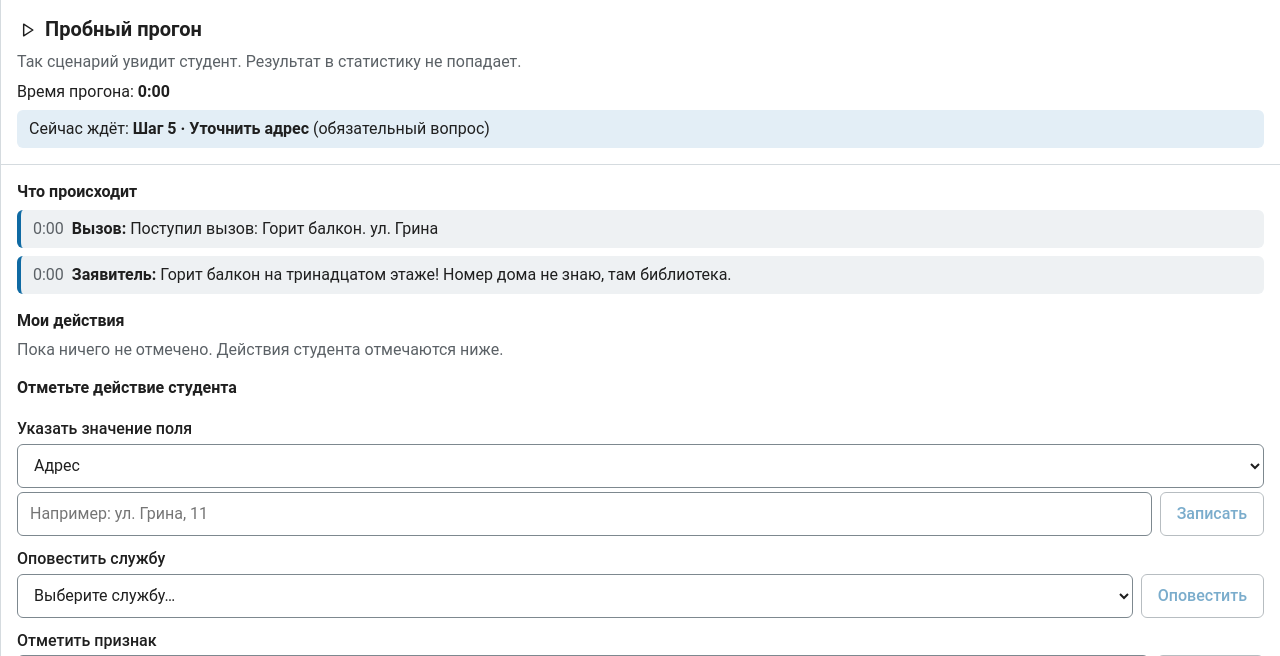
FlowPreviewPanel › записанный ответ не пропадает: у поля «✓ Записано», в «Моих действиях» — строка
Expected: the element "Мои действия" shows "Пока ничего не отмечено", [17, 340, 503, 359]
Select "Уточнение адреса" in the dropdown labelled "Указать значение поля": (640, 466) [17, 444, 1264, 488]
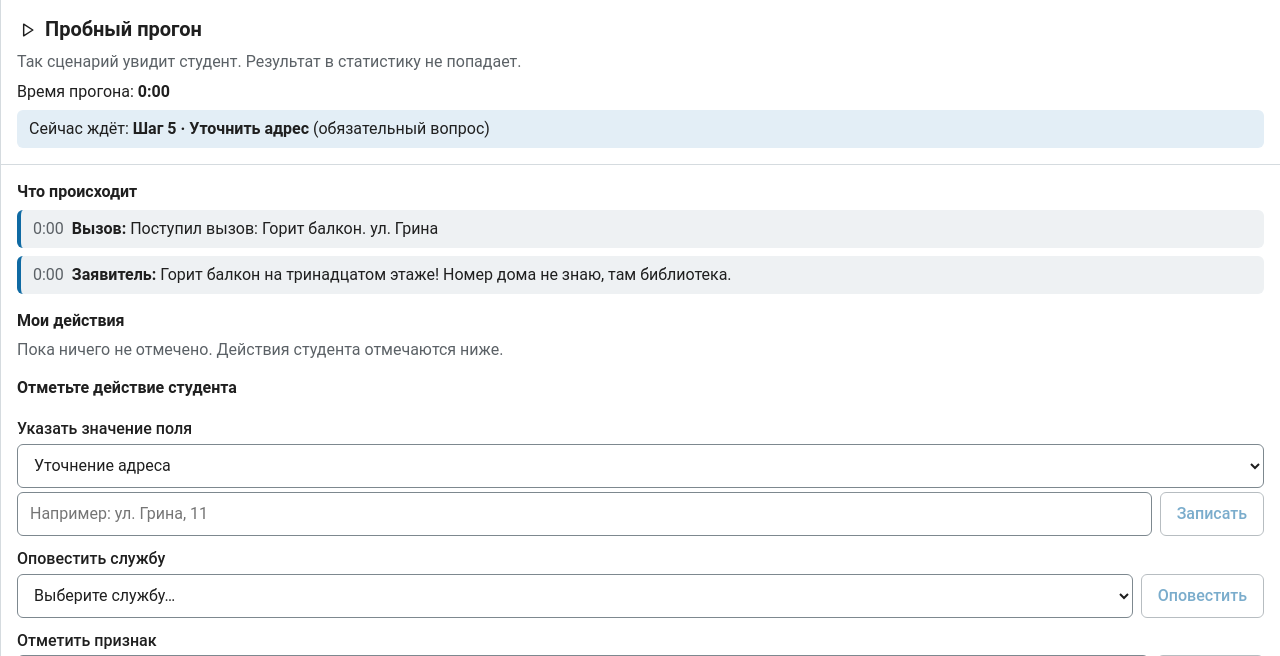
In the field named "Значение": (584, 514) [17, 492, 1152, 536], type "ул. Грина, 11"
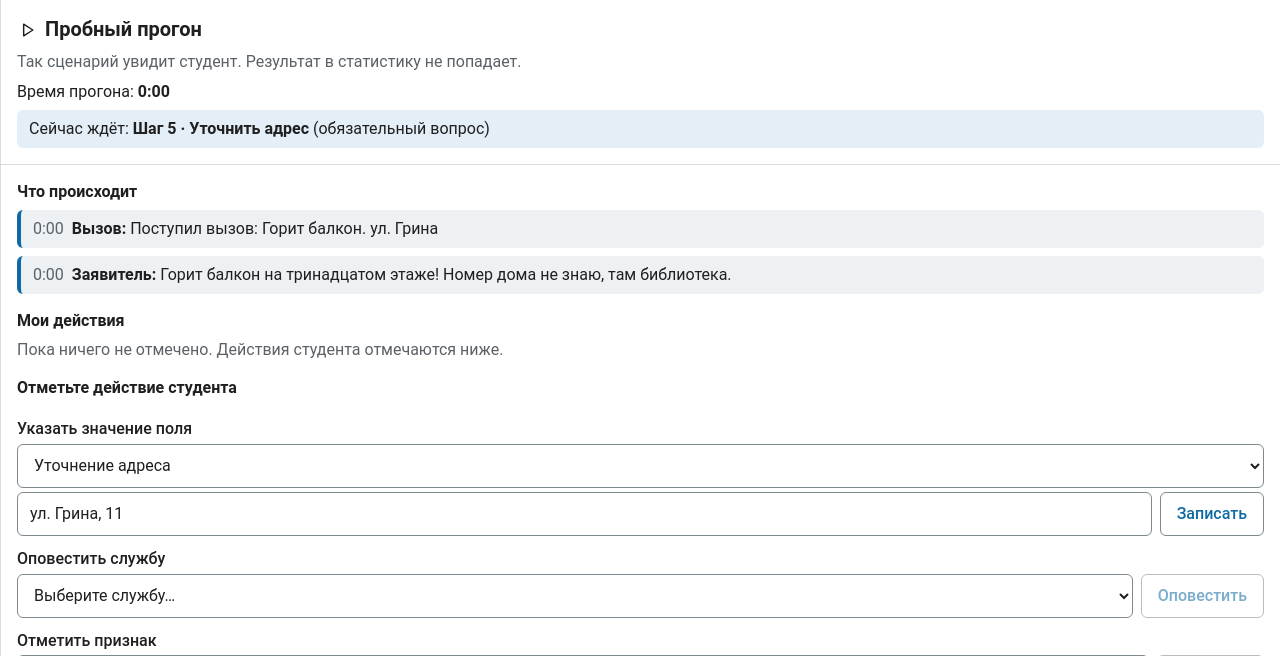
Click the button "Записать": (1212, 514) [1160, 492, 1264, 536]
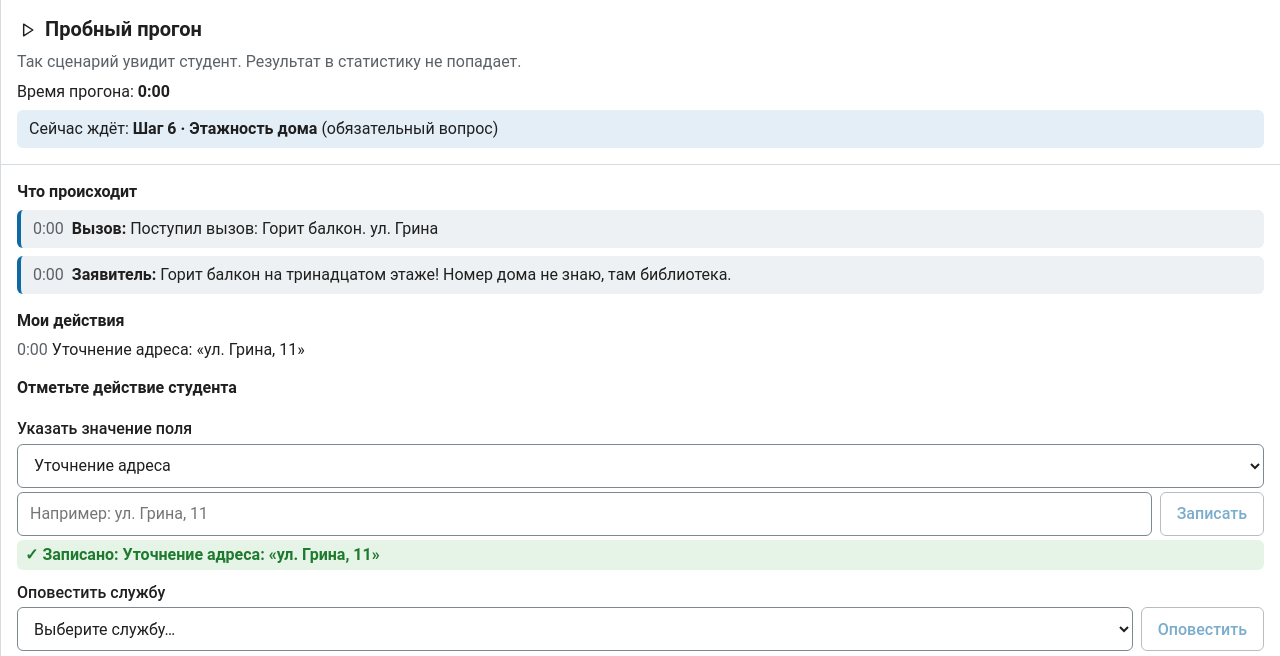
Expected: the field named "Значение" is empty, [17, 492, 1152, 536]
Expected: the text "✓ Записано: Уточнение адреса: «ул. Грина, 11»" is shown, [17, 540, 1264, 570]
Expected: the list item "0:00 Уточнение адреса: «ул. Грина, 11»" is shown, [17, 340, 305, 359]
